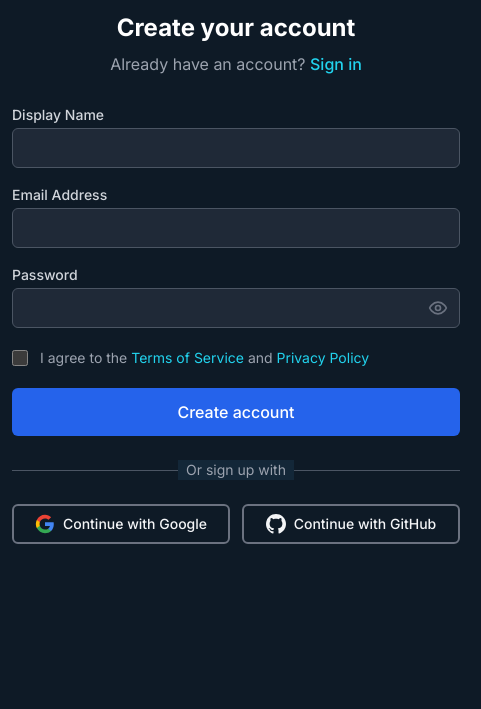
RegisterPage › requires terms acceptance
This screenshot has width=481, height=709.
Type "Test User" into the field labelled "Display Name" at (236, 148), box [12,128,460,168]
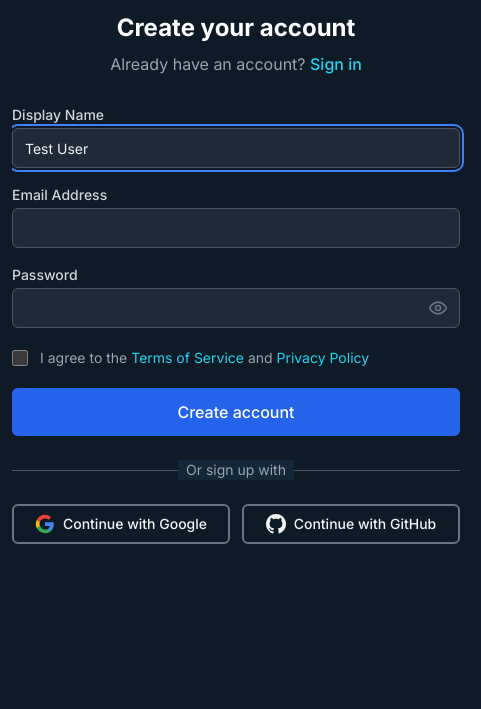
Type "test@example.com" into the field labelled "Email Address" at (236, 228), box [12,208,460,248]
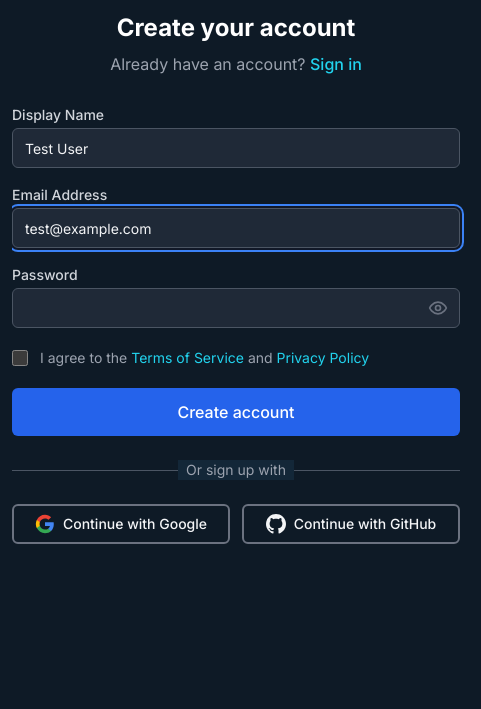
Type "StrongP@ssw0rd123" into the password field labelled "Password" at (236, 308), box [12,288,460,328]
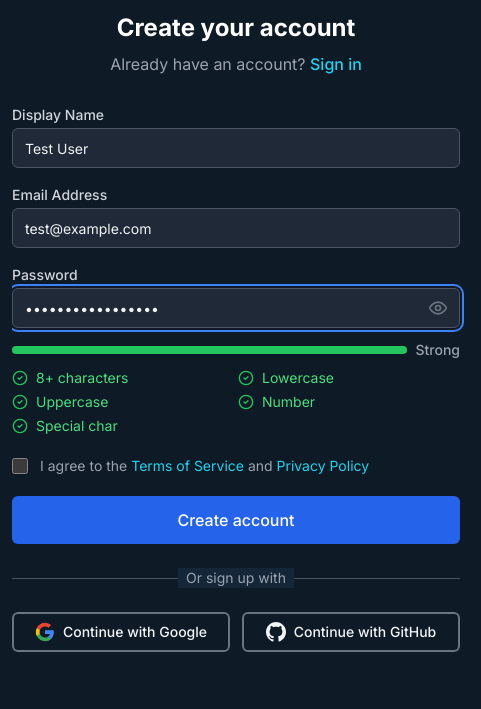
Don't check terms checkbox
Click the button "Create account" at (236, 520), box [12,496,460,544]
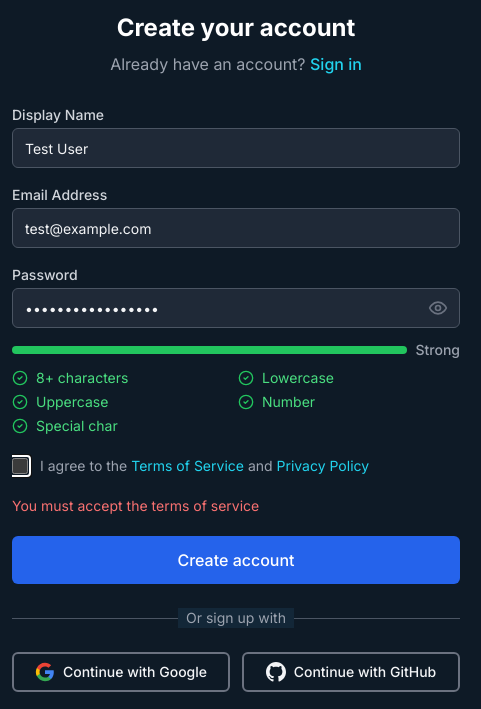
Now the text "You must accept the terms of service" is shown, box [12,497,259,514]
